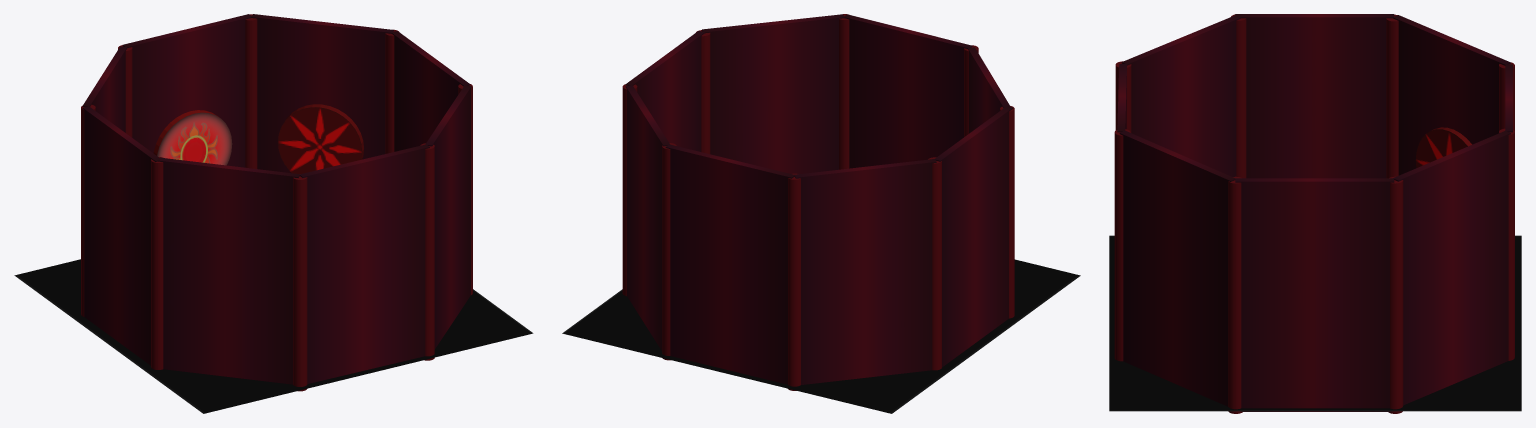
Rendered from stage.obj.
3 renders of one model, left to right at view 1: azimuth 30°, elevation 25°; view 2: azimuth 150°, elevation 25°; view 3: azimuth 270°, elevation 25°, orthographic. The views are drawn at different scales.
Visible parts, largest first — view 1: 立方体.006, 立方体.007, 立方体.003, 立方体.001, 立方体, 平面, 立方体.005, 立方体.004, 円柱.002_円柱.001, 円柱, 円柱.005, 円柱.008 (+6 smaller); view 2: 立方体.002, 立方体, 立方体.005, 立方体.007, 立方体.003, 平面, 立方体.001, 立方体.004, 円柱.003_円柱.002, 円柱.007, 立方体.006, 円柱.004_円柱.003 (+4 smaller); view 3: 立方体.004, 立方体.001, 立方体.005, 立方体.003, 立方体.006, 立方体.002, 平面, 円柱.009, 円柱.010, 円柱.006, 円柱.007, 円柱.008 (+6 smaller).
Boxes of the visible parts, box(x1,y1,x2,y2) form: 立方体.006: box(158, 157, 299, 384); 立方体.007: box(299, 144, 429, 383); 立方体.003: box(82, 106, 161, 365); 立方体.001: box(251, 14, 393, 173); 立方体: box(122, 14, 251, 167); 平面: box(14, 259, 533, 413); 立方体.005: box(425, 85, 471, 349); 立方体.004: box(392, 31, 470, 151); 円柱.002_円柱.001: box(278, 104, 363, 173); 円柱: box(153, 110, 232, 165); 円柱.005: box(293, 174, 307, 391); 円柱.008: box(151, 157, 163, 369); 立方体.002: box(794, 159, 936, 384); 立方体: box(665, 144, 794, 384); 立方体.005: box(702, 14, 844, 174); 立方体.007: box(844, 14, 972, 168); 立方体.003: box(934, 106, 1013, 367); 平面: box(562, 259, 1080, 413); 立方体.001: box(625, 85, 669, 351); 立方体.004: box(625, 31, 704, 151); 円柱.003_円柱.002: box(788, 173, 800, 390); 円柱.007: box(928, 157, 941, 370); 立方体.006: box(967, 47, 1010, 133); 円柱.004_円柱.003: box(662, 143, 676, 360); 立方体.004: box(1235, 178, 1394, 411); 立方体.001: box(1393, 131, 1510, 405); 立方体.005: box(1119, 130, 1235, 406); 立方体.003: box(1235, 14, 1394, 178); 立方体.006: box(1121, 15, 1240, 176); 立方体.002: box(1393, 15, 1510, 175); 平面: box(1109, 235, 1521, 411); 円柱.009: box(1228, 176, 1242, 413); 円柱.010: box(1388, 176, 1403, 413); 円柱.006: box(1114, 129, 1130, 361); 円柱.007: box(1386, 14, 1398, 178); 円柱.008: box(1231, 14, 1246, 178).
Bounding box in the file's own units: 26.15 × 16.08 × 25.96.
Materials: 5 (5 with a texture image).
